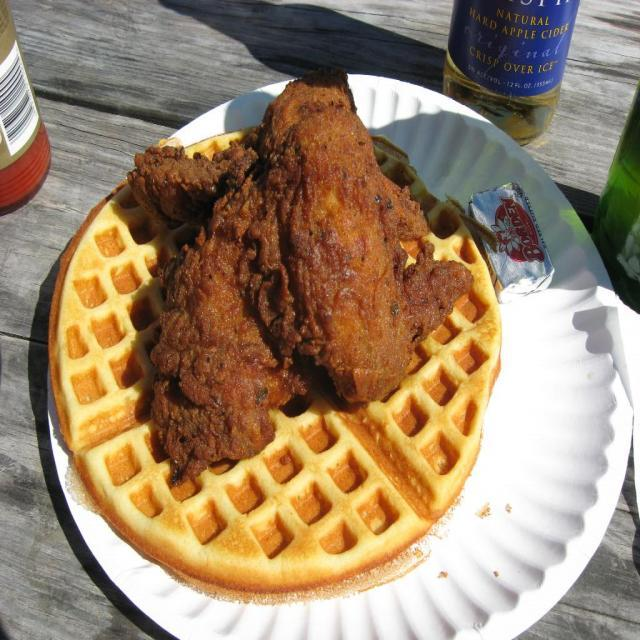Waffle: (48, 125, 503, 604)
